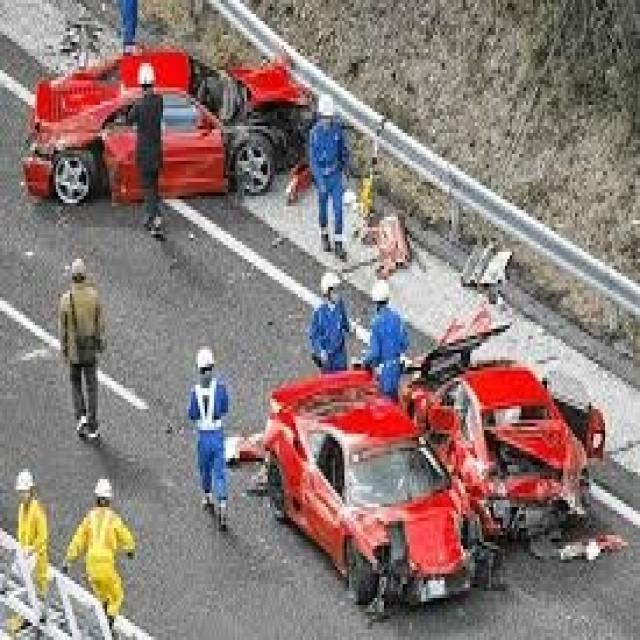accident: (235, 321, 621, 618), (16, 41, 318, 212)
